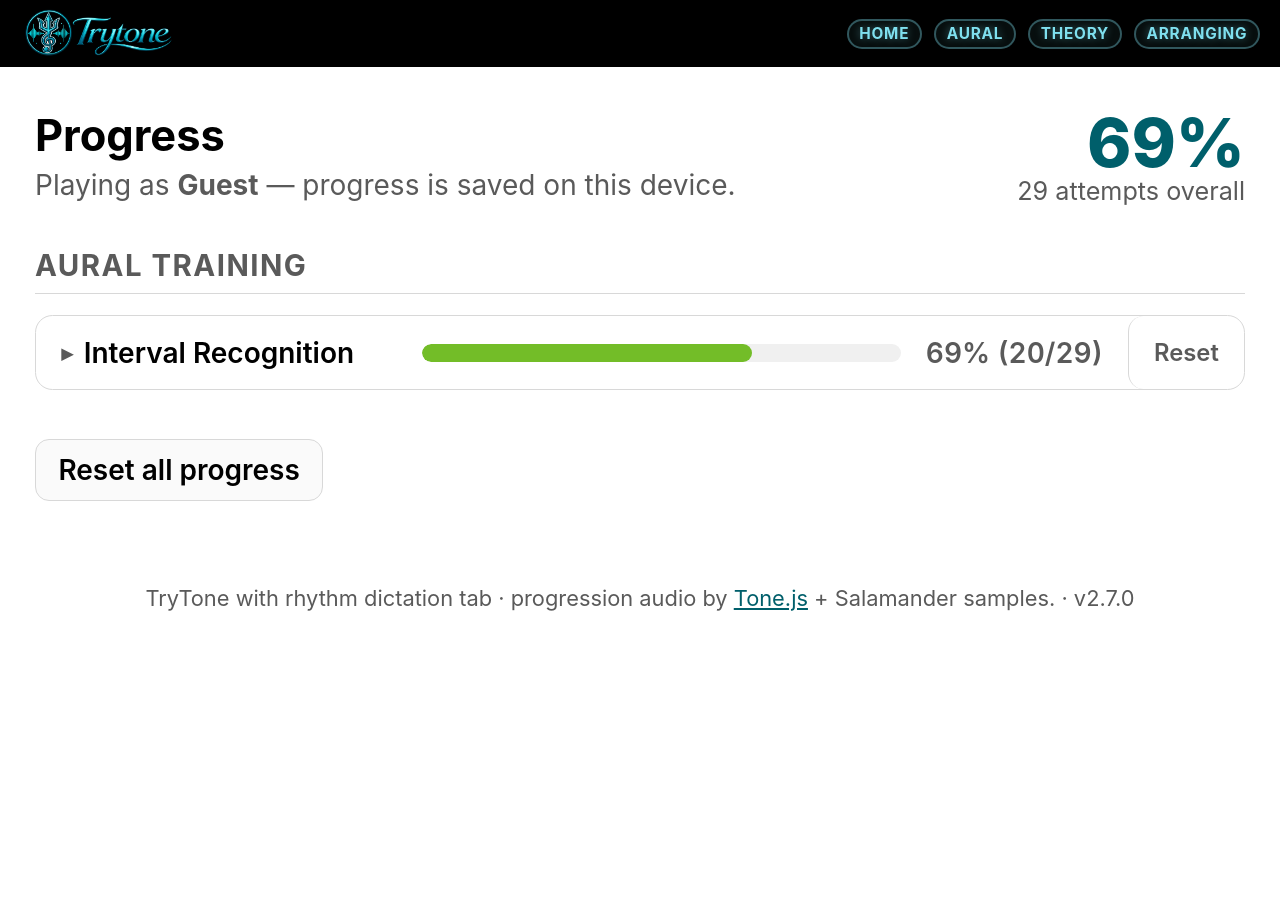
Test: StatsPage › shows overall accuracy and expands to a per-item breakdown
This screenshot has width=1280, height=900.
Check: the text "Interval Recognition" is shown, box left=84, top=336, right=354, bottom=370
Check: the text "69% (20/29)" is shown, box left=926, top=336, right=1103, bottom=370
Step 1. Click the button "▸ Interval Recognition 69% (20/29)" → (582, 353), box left=36, top=316, right=1128, bottom=389
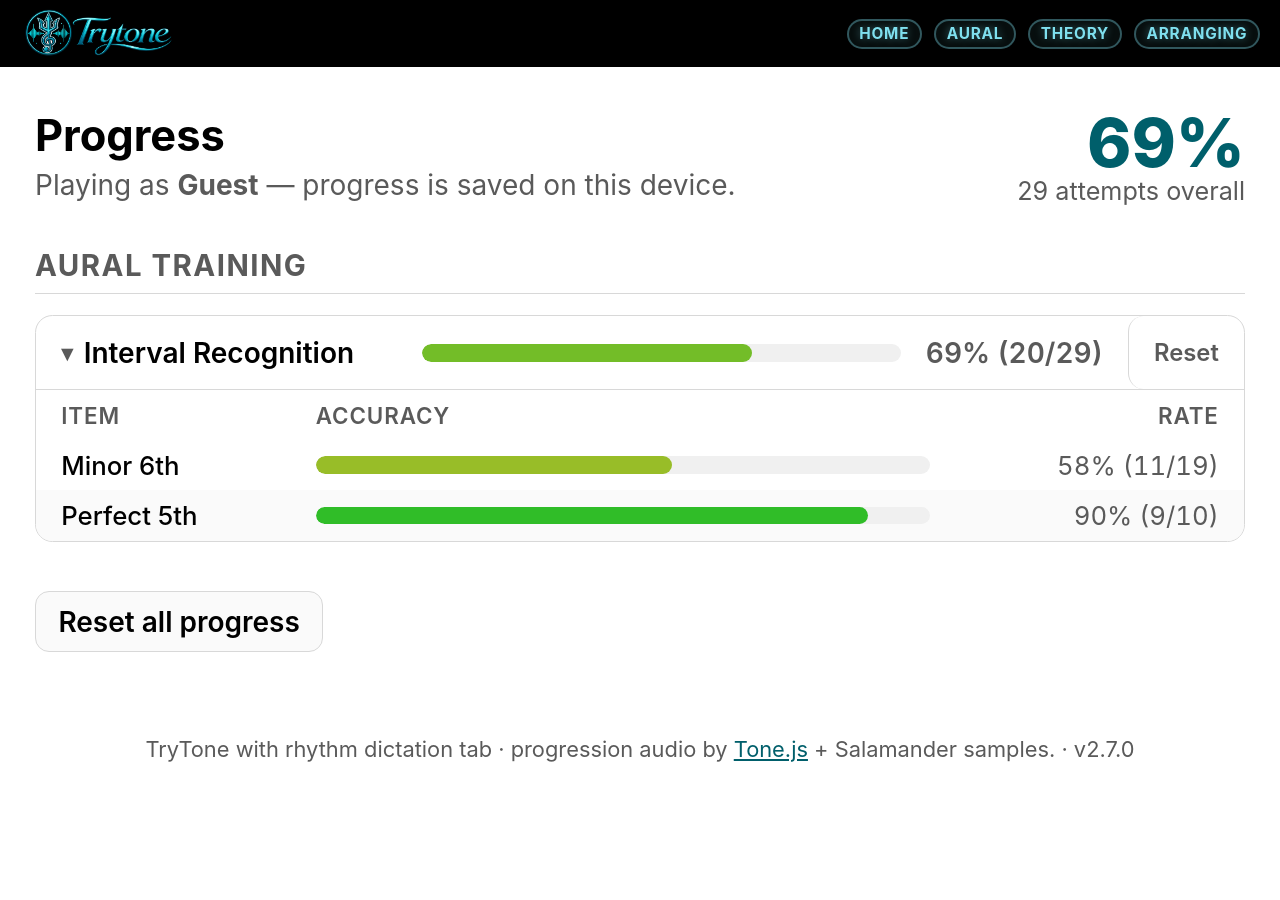
Check: the column heading "Minor 6th" is shown, box left=36, top=440, right=290, bottom=490
Check: the text "58% (11/19)" is shown, box left=955, top=440, right=1244, bottom=490
Check: the text "90% (9/10)" is shown, box left=955, top=490, right=1244, bottom=541
